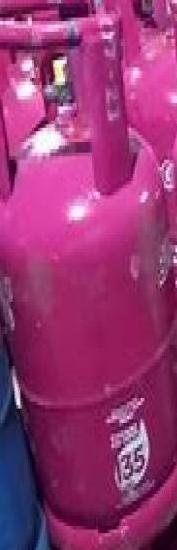cylinder: (1, 1, 177, 550)
